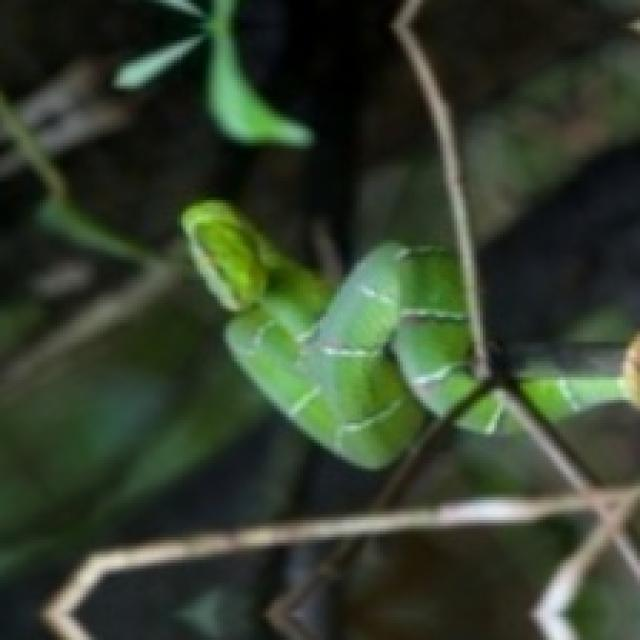north ph temple pitviper: (180, 200, 477, 466)
